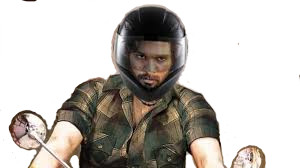com_capacete: (111, 3, 190, 103)
